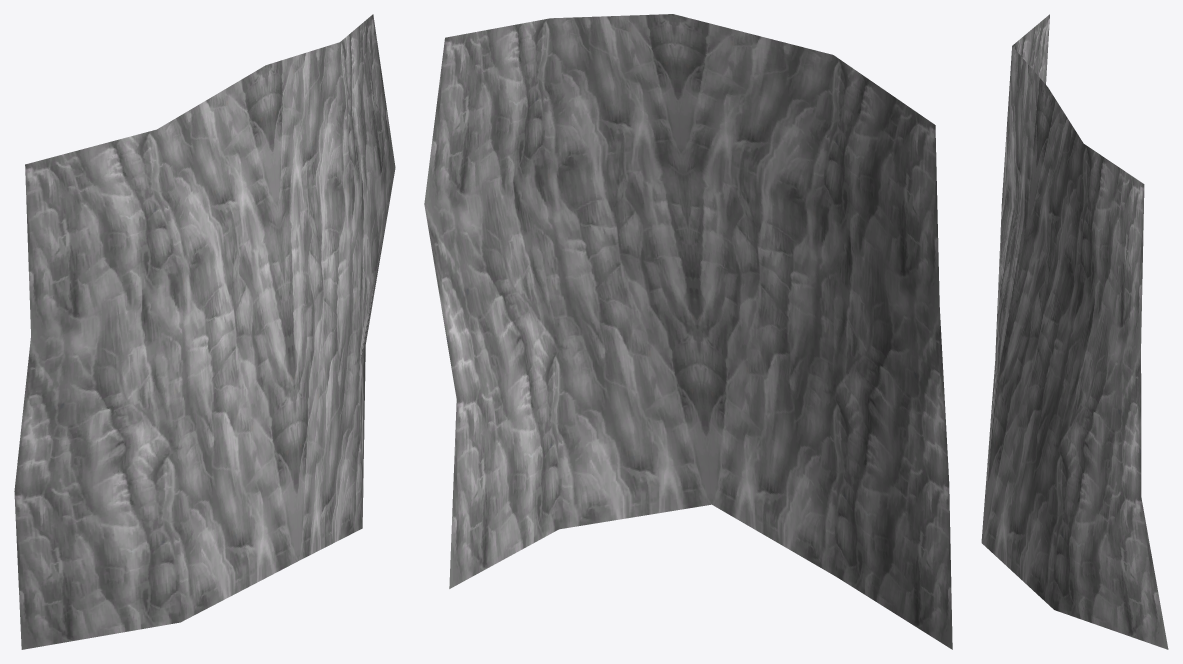
File: SWORDLIGHT20_PS-AREA03_84.fbx
3 views of the same model, side by side, from view 1: azimuth 30°, elevation 25°; view 2: azimuth 150°, elevation 25°; view 3: azimuth 270°, elevation 25° (orthographic). The views are drawn at different scales.
Visible parts, largest first — view 1: SWORDLIGHT20_PS-AREA03_84; view 2: SWORDLIGHT20_PS-AREA03_84; view 3: SWORDLIGHT20_PS-AREA03_84.
Boxes of the visible parts, left/top/right/bottom form: SWORDLIGHT20_PS-AREA03_84: left=14, top=14, right=395, bottom=649; SWORDLIGHT20_PS-AREA03_84: left=424, top=14, right=952, bottom=649; SWORDLIGHT20_PS-AREA03_84: left=981, top=14, right=1168, bottom=649.
Size of the model in its own units: 130302 by 151076 by 50703.
Materials: 1 (1 with a texture image).
